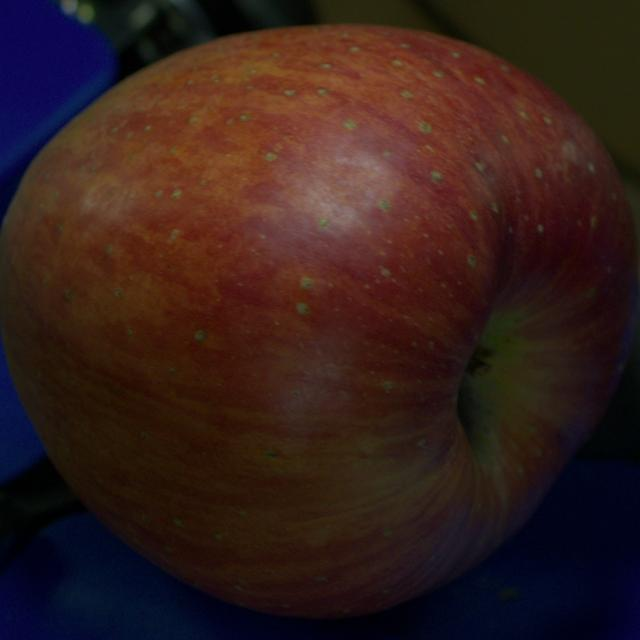apple: (0, 26, 638, 617)
